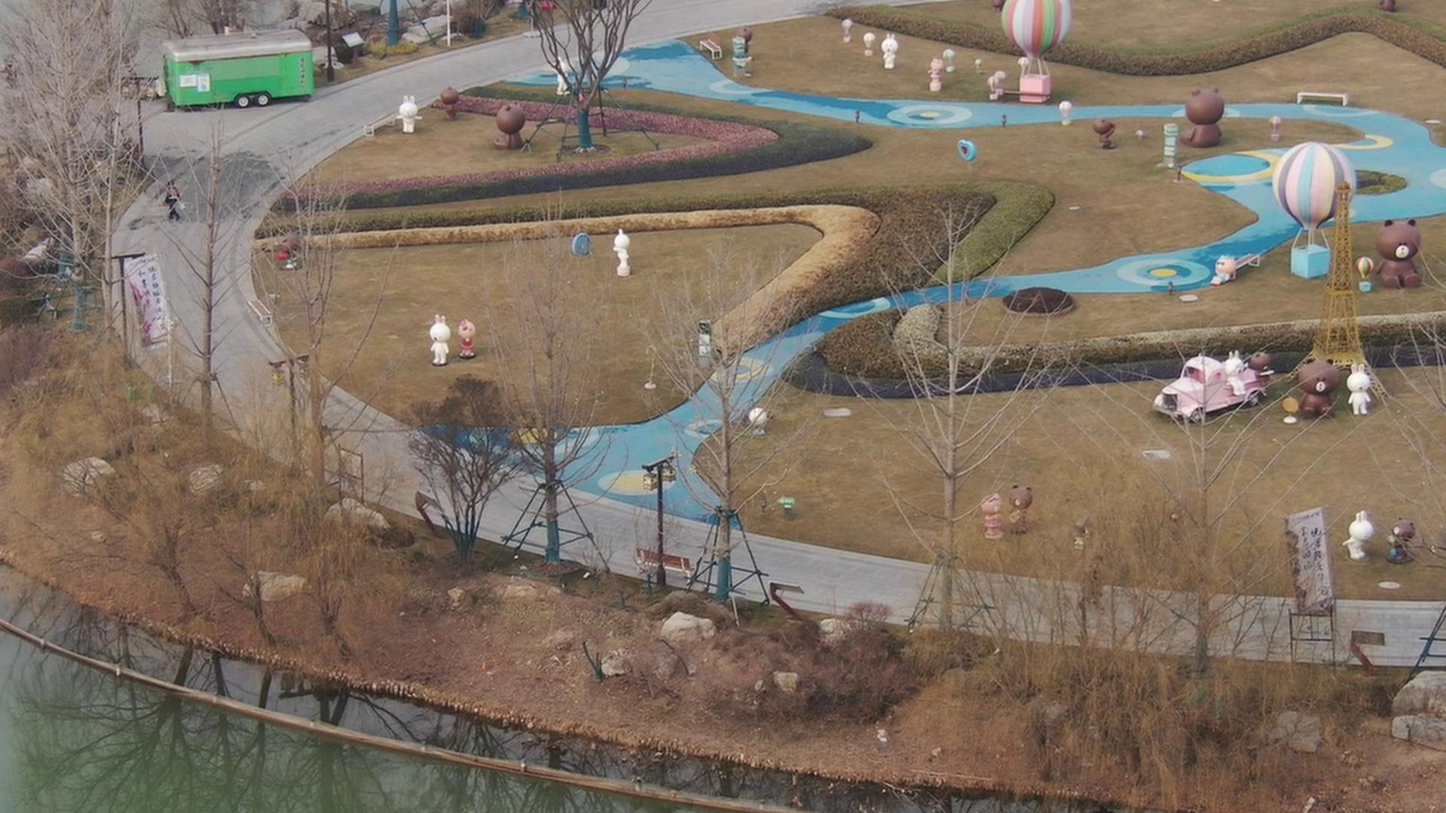class_2: (1070, 556, 1107, 619)
human: (161, 181, 184, 229)
